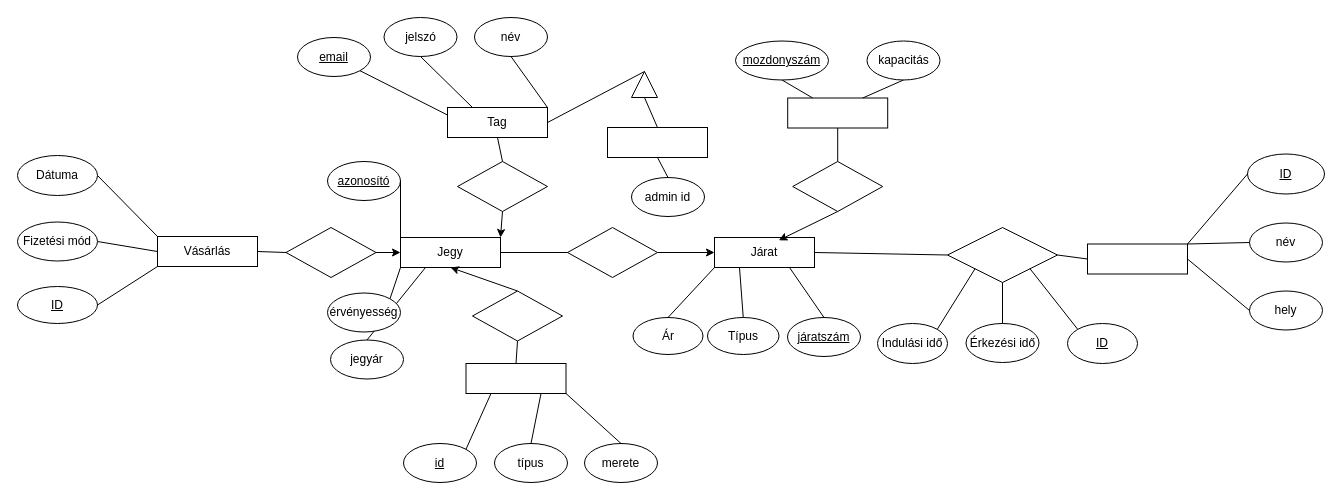
This 1342x500 diagram has some shape labels left out. The shapes that lost their labels are listed below. From the top down, each one's centre as x and y in pixels, then its label:
(x=837, y=112): Szerelvény
(x=657, y=142): Admin
(x=502, y=186): tulajdonos
(x=837, y=186): rendel
(x=330, y=252): Jegy vásárlása
(x=612, y=252): jegye
(x=1002, y=254): megáll
(x=1137, y=258): Állomás
(x=517, y=315): kedvezmény
(x=515, y=378): Kedvezmények
